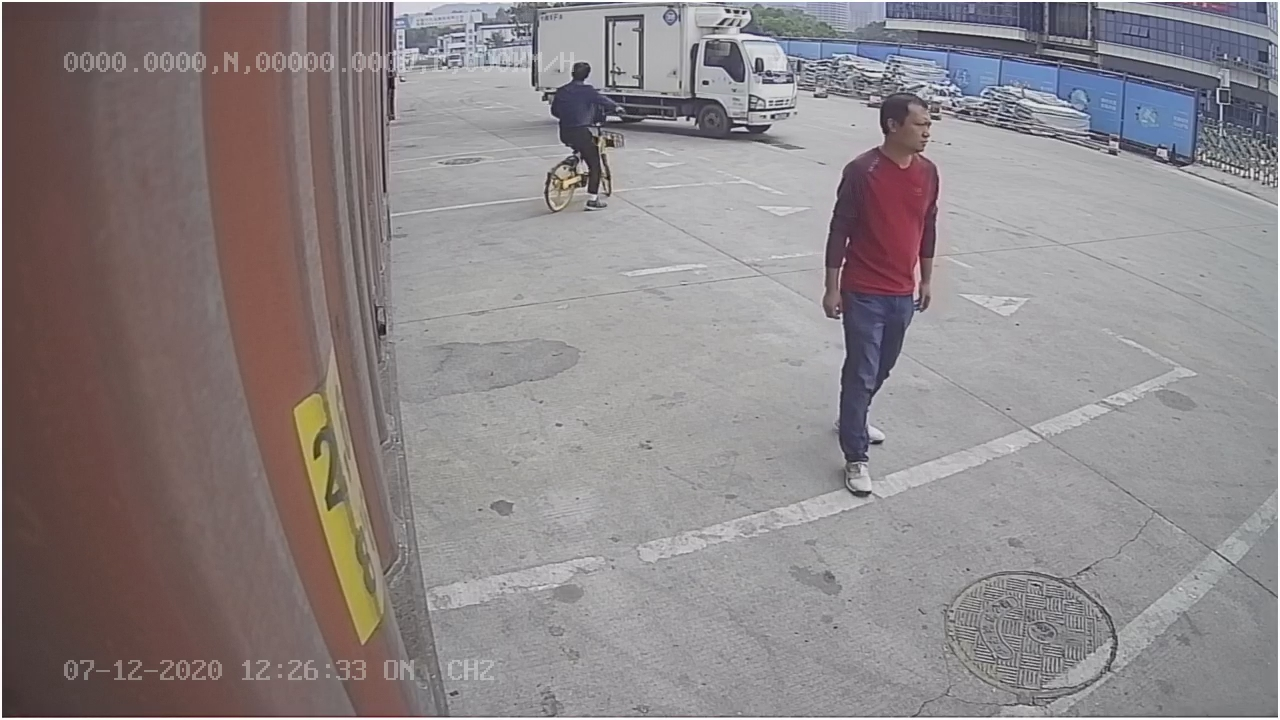person: (818, 86, 949, 504)
